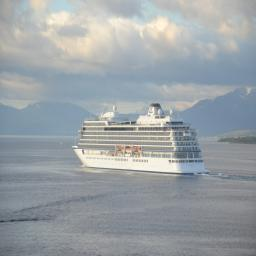cruises: (71, 102, 213, 180)
